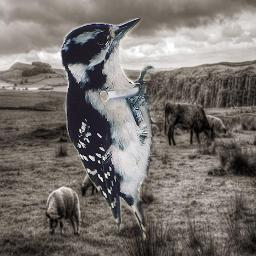Woodpecker: (60, 18, 158, 243)
